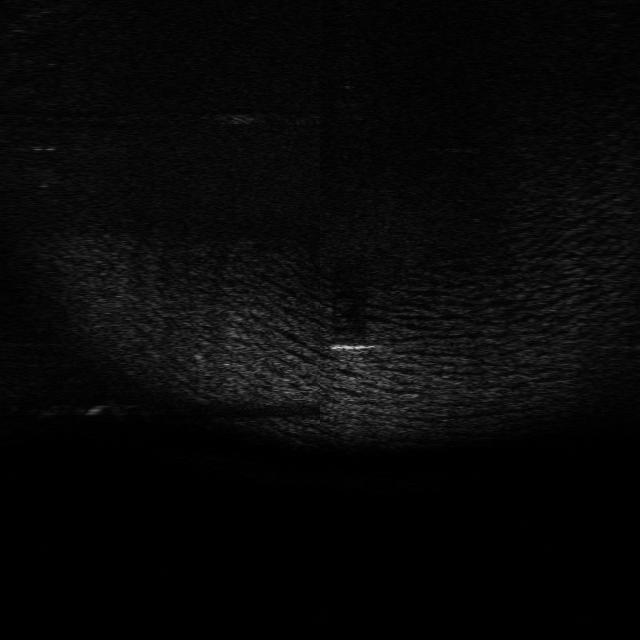cube: (327, 334, 364, 354)
